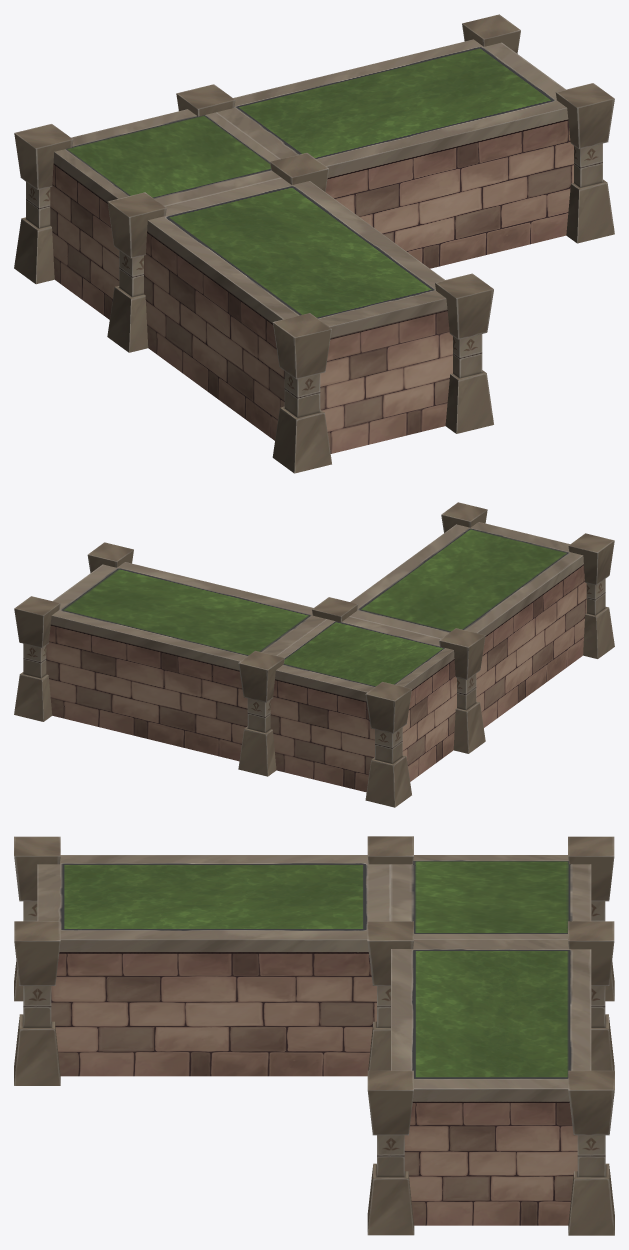
File: wall_corner.fbx
The picture shows the model from 3 angles, top to bottom: view 1: azimuth 30°, elevation 25°; view 2: azimuth 150°, elevation 25°; view 3: azimuth 270°, elevation 25°; orthographic projection. The views are drawn at different scales.
Parts seen in each view (by area): view 1: polySurface2488; view 2: polySurface2488; view 3: polySurface2488.
Boxes of the visible parts, left/top/right/bottom form: polySurface2488: left=14, top=14, right=614, bottom=473; polySurface2488: left=14, top=502, right=614, bottom=807; polySurface2488: left=14, top=836, right=614, bottom=1235.
Size of the model in its own units: 11.53 by 3.07 by 11.53.
